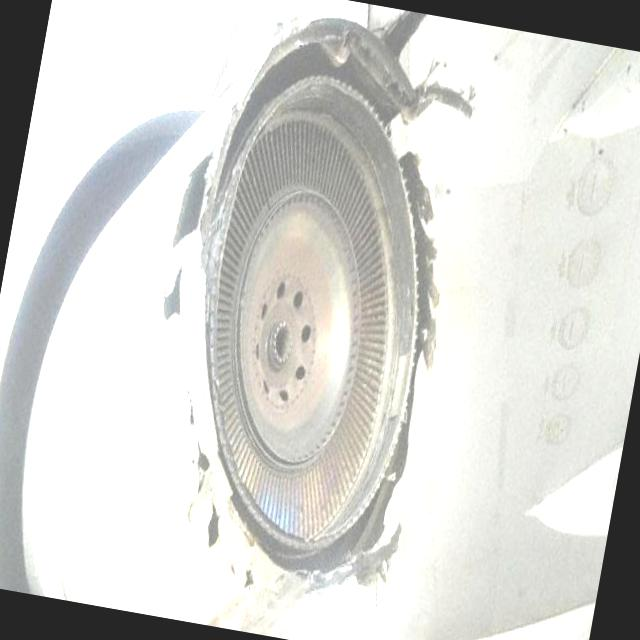crack: (139, 373, 288, 604), (146, 250, 200, 346)
